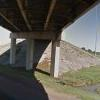Bridge: (2, 1, 78, 71)
